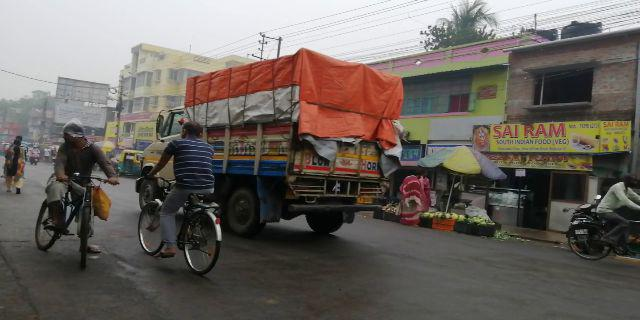Cycle: (138, 126, 225, 276), (39, 119, 110, 271)
Truck: (131, 54, 400, 218)
